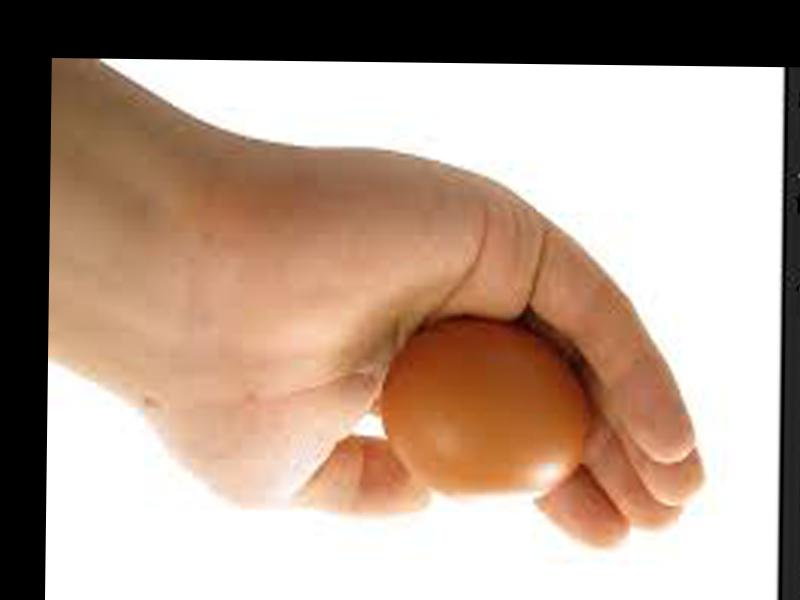Eggs: (378, 322, 605, 501)
